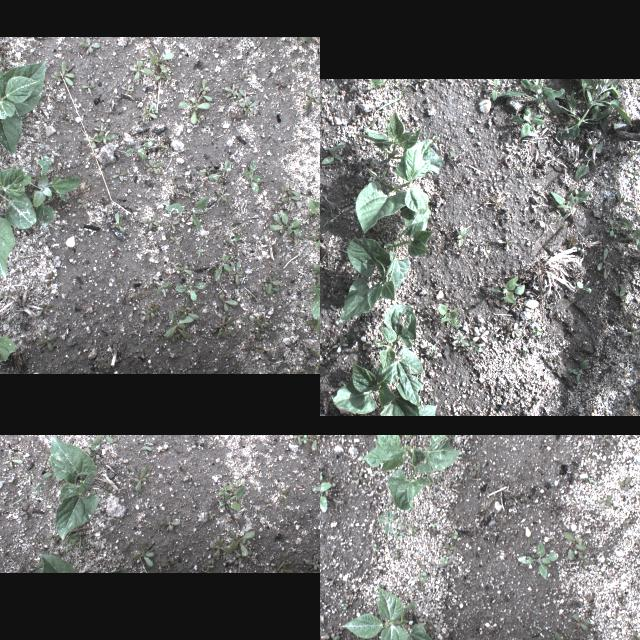crop: (354, 136, 446, 232), (359, 435, 460, 510), (328, 360, 437, 416), (48, 435, 99, 540), (547, 78, 633, 140), (341, 584, 436, 640), (0, 42, 46, 154), (338, 236, 396, 322), (384, 208, 436, 294), (362, 302, 424, 372), (353, 106, 423, 166), (0, 152, 36, 228), (500, 78, 566, 108), (0, 301, 15, 362), (39, 554, 79, 572), (309, 264, 320, 319), (308, 197, 320, 222), (112, 568, 128, 572)
weed: (17, 155, 82, 229), (9, 460, 63, 506), (518, 540, 558, 578), (167, 195, 210, 229), (551, 188, 593, 220), (377, 80, 418, 112), (489, 274, 526, 308), (572, 140, 604, 176), (378, 508, 416, 536), (510, 108, 546, 136), (178, 96, 210, 124), (164, 310, 193, 340), (228, 529, 256, 557), (145, 46, 175, 72), (125, 134, 155, 160), (436, 302, 462, 332), (219, 485, 245, 515), (564, 530, 586, 560), (244, 160, 264, 192), (320, 461, 333, 510), (281, 210, 305, 236), (132, 540, 156, 566), (176, 280, 207, 300), (620, 218, 640, 248), (594, 247, 612, 280), (321, 140, 345, 164), (54, 60, 76, 84), (208, 159, 232, 181), (85, 435, 114, 452), (568, 358, 588, 382), (215, 254, 233, 280), (130, 60, 152, 80), (484, 80, 506, 100), (268, 214, 292, 232), (38, 331, 58, 352), (248, 312, 274, 328), (218, 317, 236, 339), (320, 84, 338, 106), (227, 260, 243, 284), (133, 466, 147, 492), (616, 189, 636, 207), (210, 540, 230, 558), (111, 211, 127, 233), (159, 515, 181, 531), (266, 270, 280, 294), (222, 82, 242, 98), (613, 282, 629, 302), (3, 452, 23, 468), (65, 531, 81, 551), (572, 612, 588, 632), (303, 90, 320, 108), (142, 102, 158, 120), (142, 214, 160, 230), (220, 294, 238, 310), (472, 325, 488, 343), (80, 38, 100, 52), (144, 158, 164, 172), (572, 280, 592, 294), (608, 217, 622, 237), (363, 117, 383, 131), (461, 340, 484, 352), (417, 560, 429, 582), (92, 133, 118, 143), (212, 315, 228, 331), (274, 486, 290, 502), (181, 306, 199, 320), (282, 181, 300, 195), (244, 98, 258, 116), (618, 300, 636, 314), (280, 554, 294, 572), (307, 229, 320, 248), (624, 324, 640, 339), (304, 557, 320, 572), (551, 632, 580, 640), (198, 88, 214, 102), (238, 87, 252, 103), (370, 78, 392, 88), (175, 263, 193, 275), (456, 226, 468, 244), (309, 314, 320, 333), (82, 80, 96, 94), (84, 132, 98, 146), (112, 167, 126, 181), (156, 282, 170, 296), (176, 298, 190, 312), (286, 231, 300, 245), (598, 494, 612, 508), (618, 476, 632, 490), (36, 304, 52, 316), (100, 482, 112, 498), (218, 483, 234, 495), (442, 542, 458, 554), (51, 72, 69, 82), (263, 286, 281, 296), (280, 180, 290, 198), (332, 334, 343, 350), (310, 479, 320, 496), (292, 435, 309, 445), (76, 198, 90, 210), (148, 303, 160, 317), (96, 357, 110, 369), (577, 550, 589, 564), (282, 194, 300, 203), (163, 218, 179, 228), (200, 77, 210, 93), (272, 79, 288, 89), (510, 322, 520, 338), (611, 162, 621, 178), (626, 167, 638, 180), (94, 122, 105, 136), (253, 326, 264, 340), (216, 191, 228, 203), (624, 148, 640, 157), (393, 529, 405, 541), (323, 632, 341, 640), (46, 270, 56, 284), (210, 224, 224, 234), (568, 235, 578, 249), (122, 84, 134, 95), (198, 166, 214, 174), (427, 344, 435, 360), (154, 70, 166, 80), (306, 263, 316, 275), (312, 435, 320, 450), (314, 263, 320, 282), (226, 236, 240, 244), (355, 470, 363, 484), (598, 435, 612, 443), (472, 464, 481, 476), (5, 56, 15, 66), (141, 310, 151, 320), (172, 332, 182, 342), (231, 112, 241, 122), (532, 326, 542, 336), (450, 530, 460, 540), (170, 236, 182, 244), (196, 244, 204, 256), (518, 348, 530, 356), (500, 237, 516, 243), (184, 188, 193, 198), (82, 542, 88, 556), (139, 445, 153, 451), (624, 517, 630, 531), (66, 112, 74, 122), (232, 228, 242, 236), (240, 100, 248, 110), (329, 212, 339, 220), (47, 534, 55, 544), (68, 553, 76, 563), (635, 489, 640, 505), (308, 349, 320, 355), (633, 630, 640, 640), (634, 538, 640, 549), (160, 145, 168, 153), (144, 281, 152, 289), (262, 316, 270, 324), (284, 144, 292, 152), (440, 556, 448, 564), (588, 476, 596, 484), (313, 220, 320, 229), (126, 36, 136, 42), (214, 176, 224, 182), (229, 256, 235, 266), (236, 474, 242, 484), (393, 553, 403, 559), (372, 543, 378, 553), (49, 184, 52, 200), (106, 205, 110, 217), (170, 261, 182, 265), (294, 62, 302, 68), (576, 246, 584, 252), (516, 614, 522, 622), (341, 603, 347, 611), (196, 112, 200, 122), (620, 596, 624, 606), (430, 522, 440, 526), (186, 109, 192, 115), (532, 397, 538, 403), (602, 395, 608, 401), (449, 150, 455, 156), (152, 108, 160, 112), (300, 36, 308, 40), (240, 72, 244, 80), (548, 302, 552, 310), (457, 335, 461, 343), (36, 562, 44, 566), (532, 620, 536, 628), (0, 53, 3, 63), (494, 530, 500, 534), (310, 212, 312, 220), (318, 94, 320, 101)
